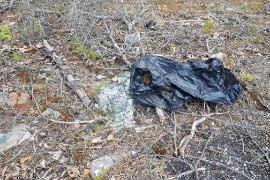trash: (60, 53, 241, 172), (1, 123, 31, 155)
